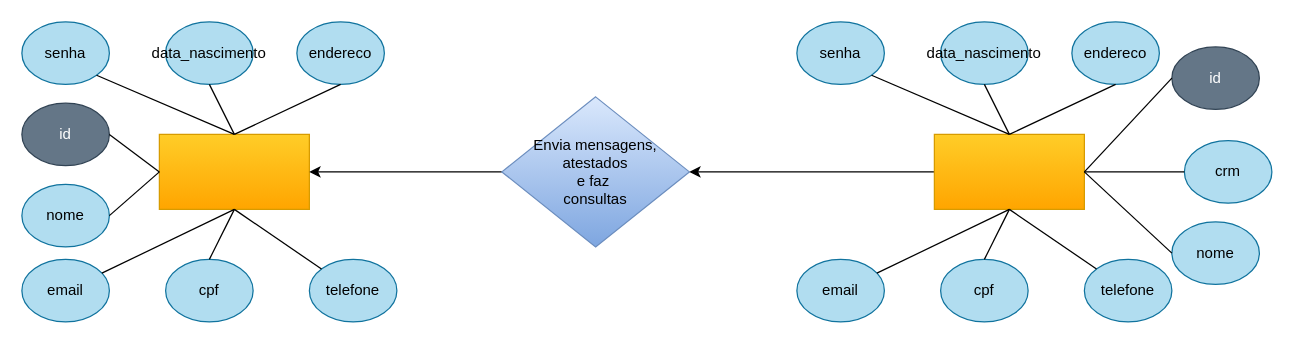
Some shapes in this 1294 by 344 pixel diagram are drawn without their labels. Here are the shapes that lost their labels. From the top down, the centre of each, then its label:
pixel 233 171: Paciente
pixel 1008 171: Medico
